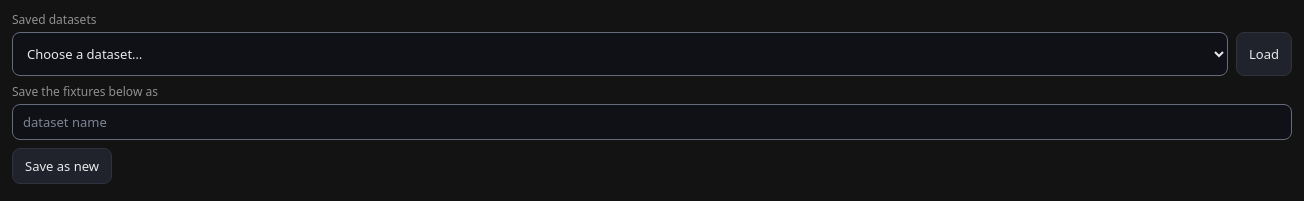
Test: DatasetPicker › loads the chosen dataset's fixtures into the editor and remembers its name
Select "Captured set (2 fixtures · from runs)" in the dropdown named "Saved dataset" at (620, 54), box [12, 32, 1228, 76]
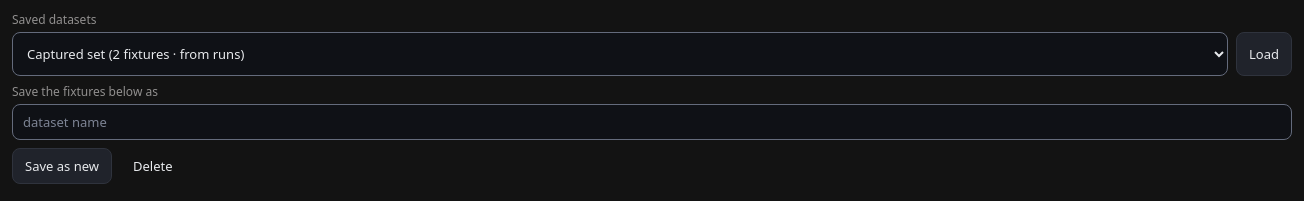
Click the button "Load" at (1264, 54), box [1236, 32, 1292, 76]
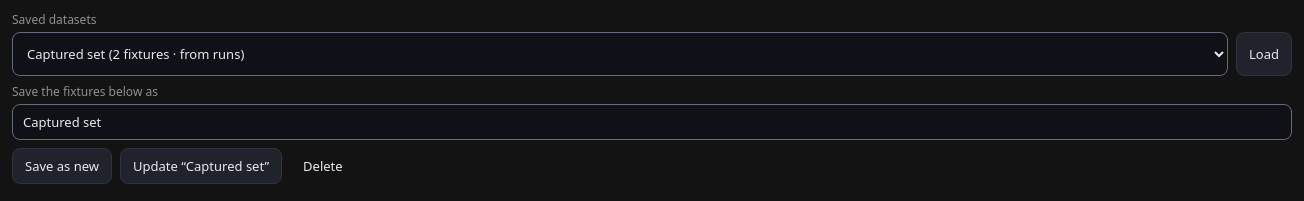
Check: the field named "dataset name" holds "Captured set", box [12, 104, 1292, 140]
Check: the button "Update “Captured set”" is shown, box [120, 148, 282, 184]
